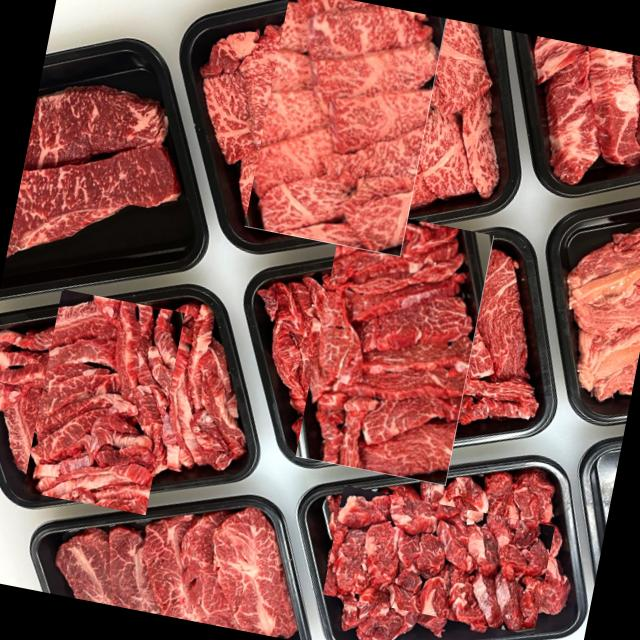beef: (222, 0, 473, 235), (276, 227, 514, 466), (7, 304, 202, 500), (322, 486, 556, 636)
